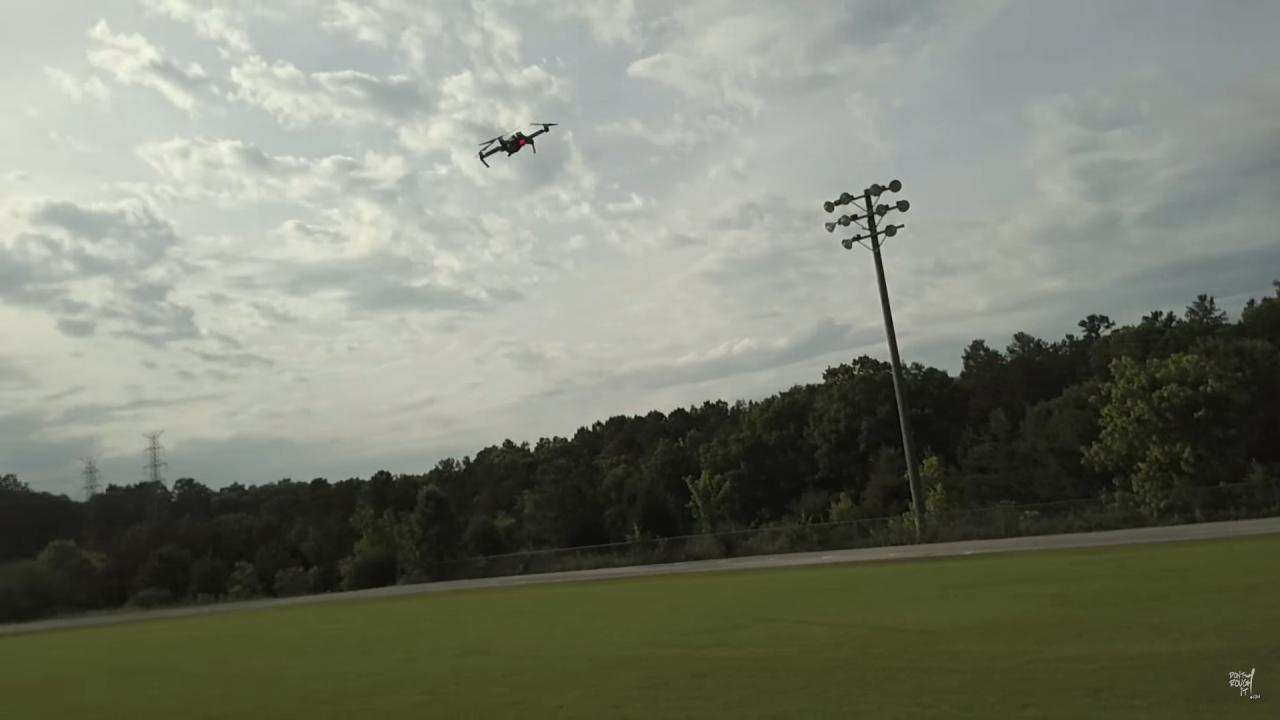Drone: (465, 113, 567, 180)
